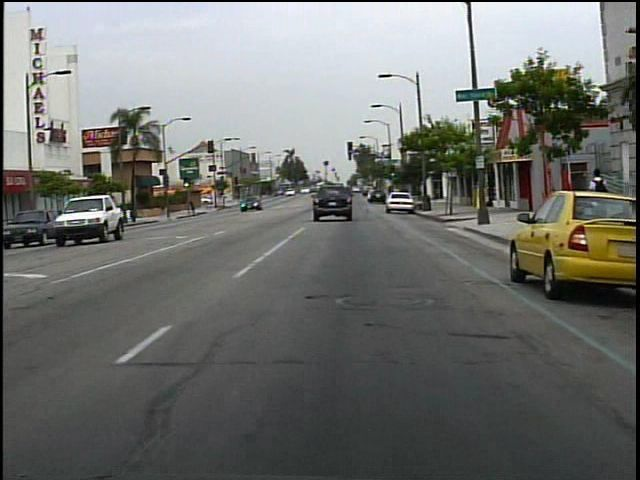person: (584, 163, 612, 211)
